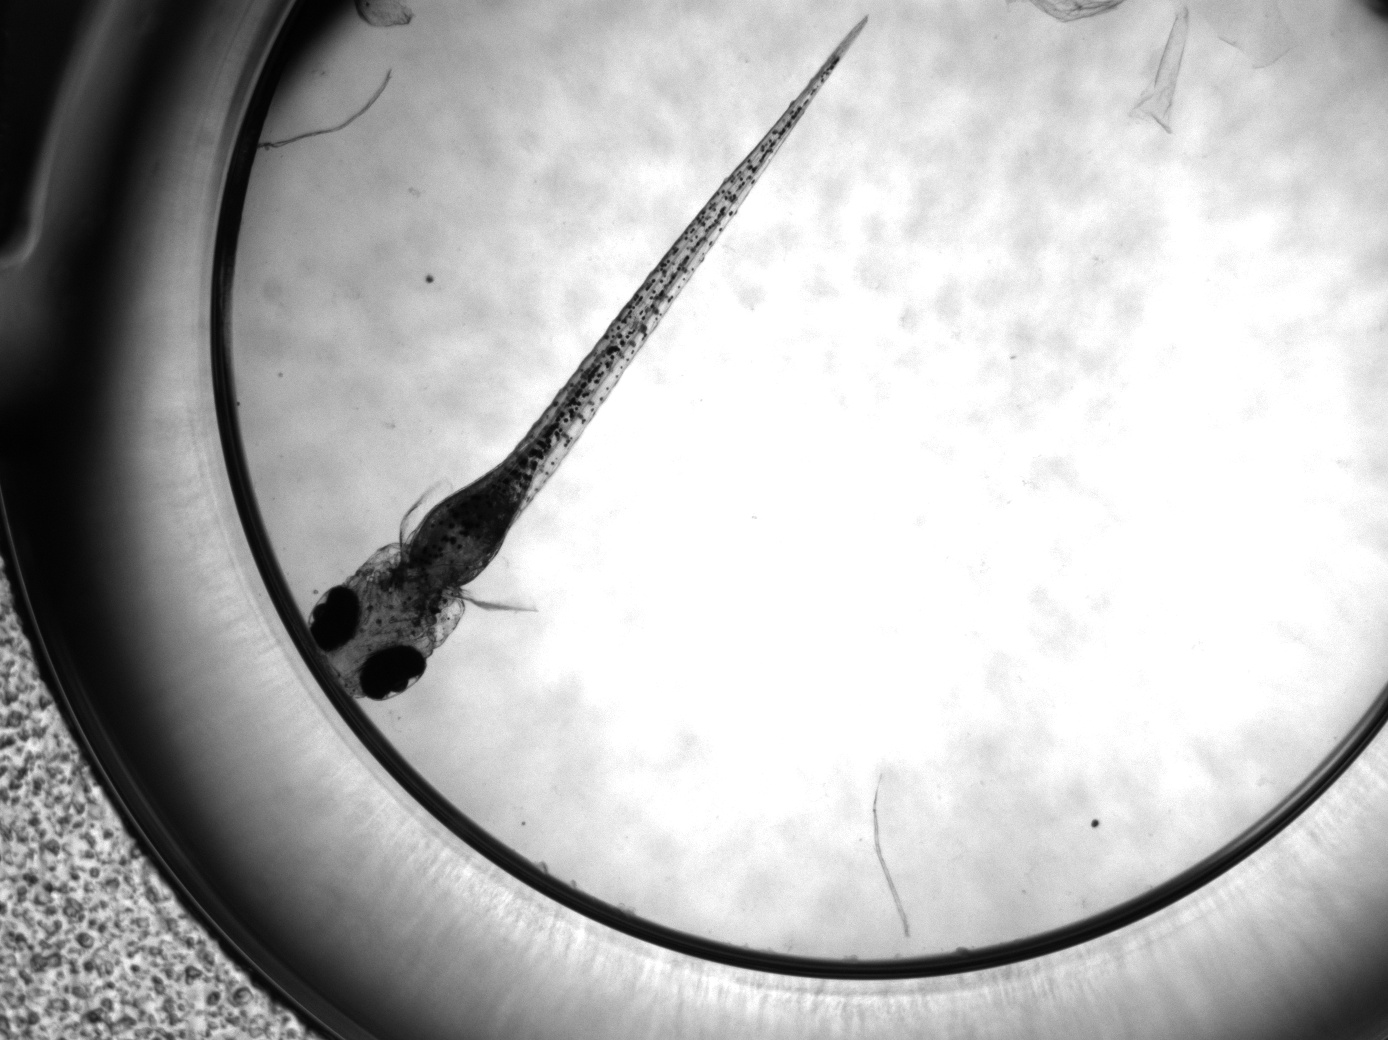debris: (256, 68, 394, 151), (1126, 1, 1193, 134)
embryo: (307, 12, 871, 700)
eye: (358, 645, 426, 701), (308, 586, 361, 653)
yolksac: (404, 454, 535, 591), (873, 773, 907, 935)
